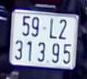1: (25, 39, 34, 62)
2: (59, 18, 69, 40)
3: (13, 38, 25, 61), (35, 40, 46, 65)
5: (20, 15, 31, 37), (62, 42, 72, 65)
9: (50, 41, 61, 65), (31, 15, 40, 38)
L: (47, 17, 58, 41)
